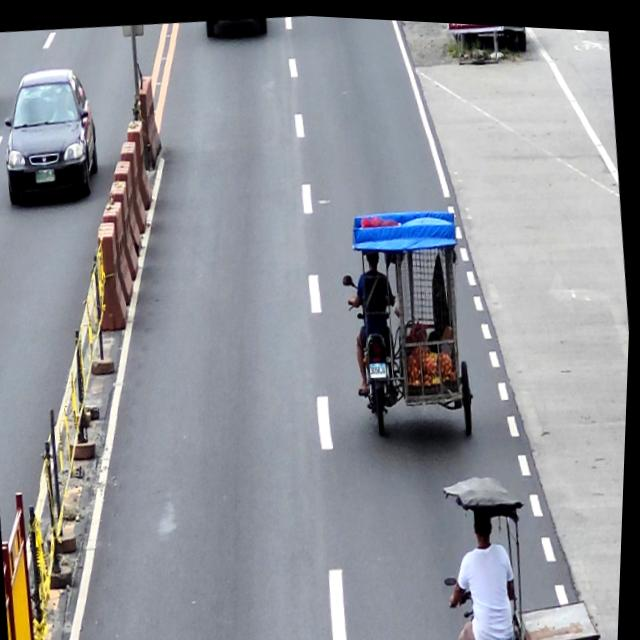License-Plate: (370, 355, 391, 375)
Tricycle: (339, 250, 486, 444)
